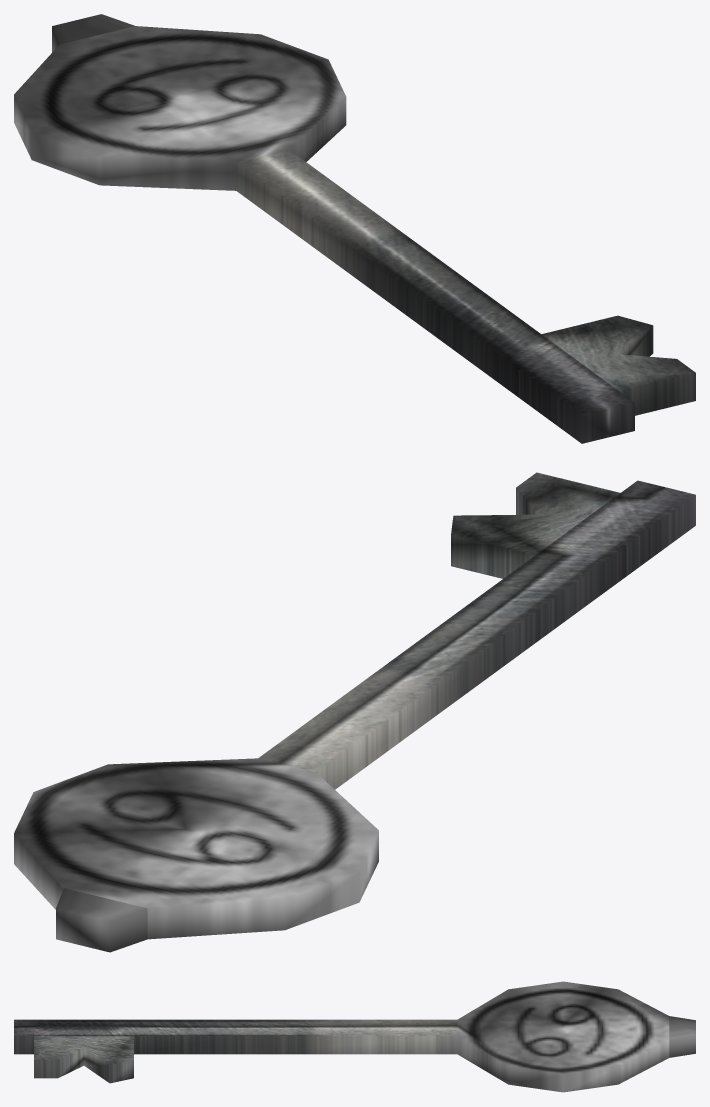
Rendered from key_h_cancer2.fbx.
3 renders of one model, top to bottom at view 1: azimuth 30°, elevation 25°; view 2: azimuth 150°, elevation 25°; view 3: azimuth 270°, elevation 25°, orthographic. The views are drawn at different scales.
Visible parts, largest first — view 1: key_h_cancer.001; view 2: key_h_cancer.001; view 3: key_h_cancer.001.
Part boxes in pixels (left/top/right/bottom): key_h_cancer.001: left=14, top=14, right=695, bottom=443; key_h_cancer.001: left=14, top=472, right=695, bottom=952; key_h_cancer.001: left=14, top=981, right=695, bottom=1092.
Size of the model in its own units: 9.46 by 0.8583 by 29.34.
Materials: 1 (1 with a texture image).
